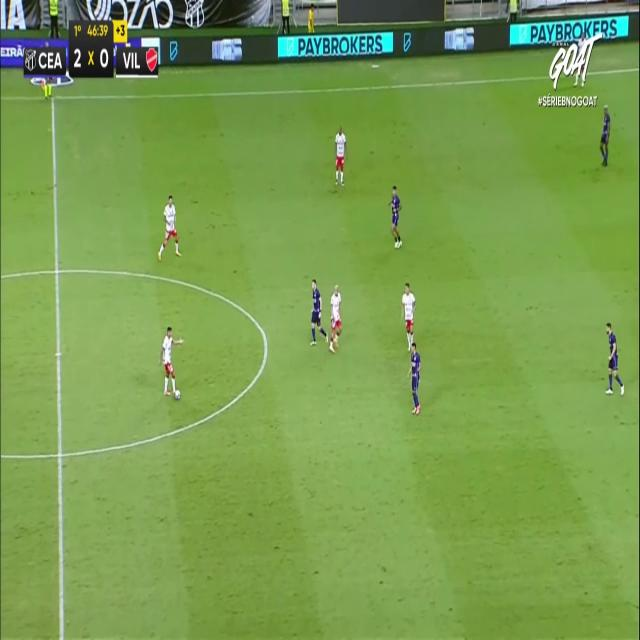ball: (173, 384, 184, 412)
player: (159, 326, 184, 398), (157, 194, 181, 261), (604, 321, 624, 395), (310, 278, 328, 345), (400, 282, 416, 351), (407, 342, 421, 415), (328, 284, 342, 352), (388, 185, 402, 248), (334, 125, 346, 187), (600, 104, 610, 165)
referee: (40, 41, 57, 102)
